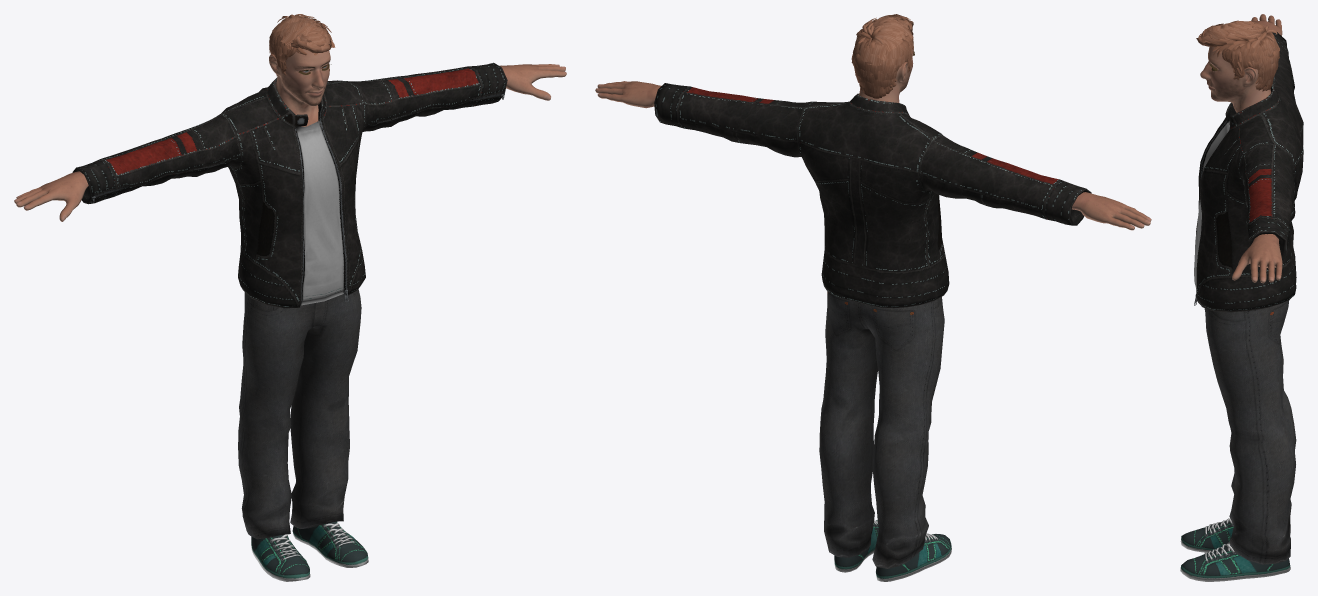
Rendered from jeremy.glb.
The picture shows the model from 3 angles, left to right: view 1: azimuth 30°, elevation 25°; view 2: azimuth 150°, elevation 25°; view 3: azimuth 270°, elevation 25°; orthographic projection.
Parts seen in each view (by area): view 1: Object_5, Object_2, Object_6, Object_4, Object_3; view 2: Object_5, Object_2, Object_3, Object_6, Object_4; view 3: Object_5, Object_2, Object_6, Object_4, Object_3.
Boxes of the visible parts, x1,y1,x2,y2 form: Object_5: [72, 62, 507, 308]; Object_2: [238, 289, 361, 539]; Object_6: [14, 19, 566, 221]; Object_4: [251, 521, 368, 581]; Object_3: [269, 14, 335, 75]; Object_5: [654, 83, 1091, 308]; Object_2: [819, 292, 944, 568]; Object_3: [851, 14, 913, 98]; Object_6: [595, 48, 1151, 230]; Object_4: [834, 520, 951, 581]; Object_5: [1194, 32, 1303, 312]; Object_2: [1204, 300, 1296, 564]; Object_6: [1200, 14, 1282, 283]; Object_4: [1180, 518, 1290, 581]; Object_3: [1196, 20, 1279, 91].
Bounding box in the file's own units: 9704 × 9049 × 1880.
Materials: 5 (5 with a texture image).
